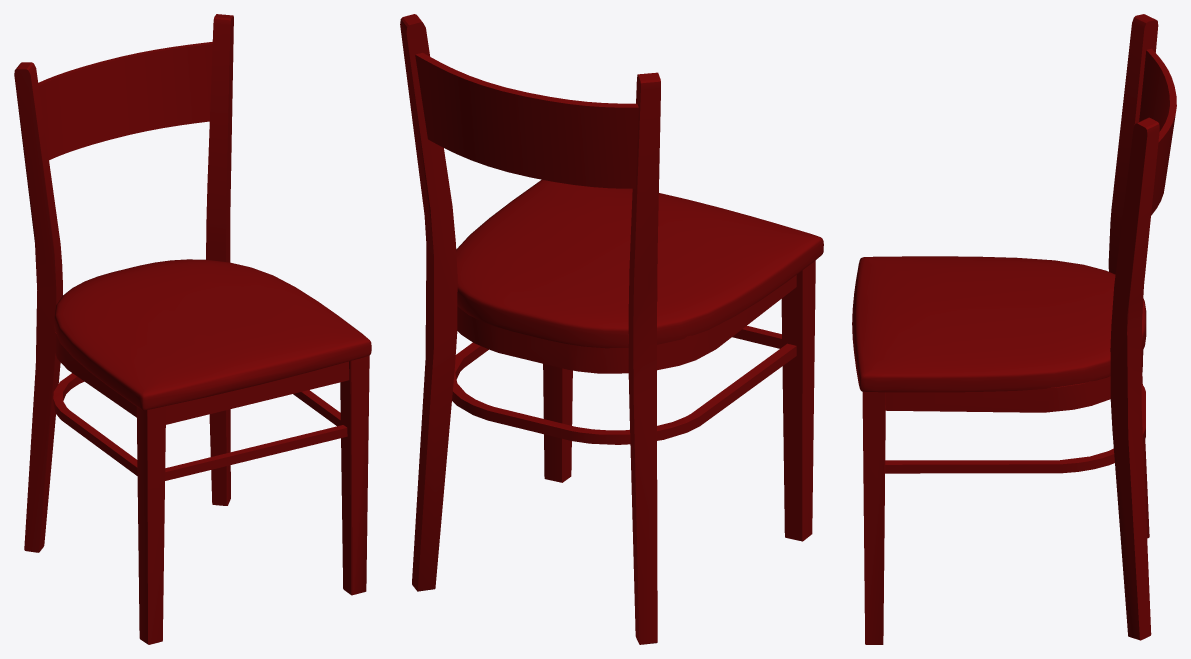
Rendered from Chair 1.FBX.
3 views of the same model, side by side, from view 1: azimuth 30°, elevation 25°; view 2: azimuth 150°, elevation 25°; view 3: azimuth 270°, elevation 25° (orthographic). The views are drawn at different scales.
Visible parts, largest first — view 1: Chair 1; view 2: Chair 1; view 3: Chair 1.
Part boxes in pixels (x1,y1,x2,y2): Chair 1: [14, 14, 371, 644]; Chair 1: [400, 14, 823, 644]; Chair 1: [852, 14, 1176, 644].
Bounding box in the file's own units: 45.75 × 90.95 × 51.75.
